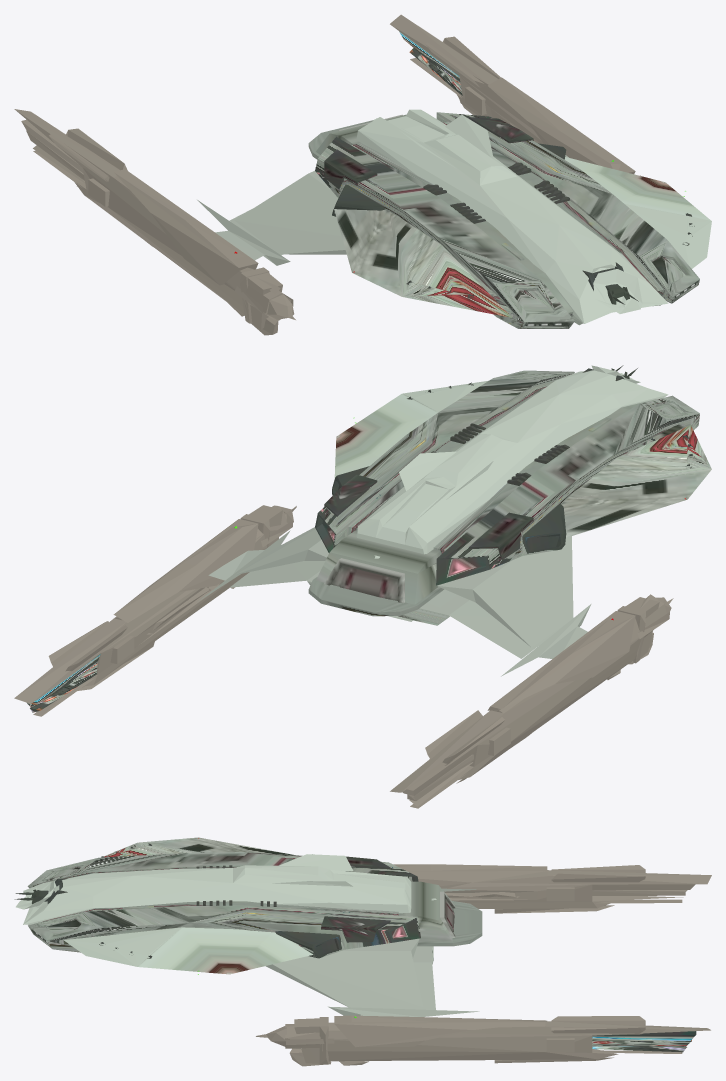
3 renders of one model, top to bottom at view 1: azimuth 30°, elevation 25°; view 2: azimuth 150°, elevation 25°; view 3: azimuth 270°, elevation 25°, orthographic. The views are drawn at different scales.
Parts seen in each view (by area): view 1: WalkerSaucer_0, WalkerNacelle_0, WalkerExtra.001_0, WalkerSaucer.001_0, WalkerPylon_0; view 2: WalkerSaucer_0, WalkerNacelle_0, WalkerExtra.001_0, WalkerPylon_0, WalkerSaucer.001_0; view 3: WalkerNacelle_0, WalkerSaucer_0, WalkerExtra.001_0, WalkerSaucer.001_0, WalkerPylon_0.
Part boxes in pixels (bbox=[...]): WalkerSaucer_0: bbox=[234, 112, 699, 328]; WalkerNacelle_0: bbox=[14, 14, 640, 335]; WalkerExtra.001_0: bbox=[356, 109, 668, 323]; WalkerSaucer.001_0: bbox=[334, 157, 711, 317]; WalkerPylon_0: bbox=[197, 155, 568, 265]; WalkerSaucer_0: bbox=[234, 365, 699, 620]; WalkerNacelle_0: bbox=[14, 505, 673, 808]; WalkerExtra.001_0: bbox=[356, 365, 668, 558]; WalkerPylon_0: bbox=[198, 527, 591, 676]; WalkerSaucer.001_0: bbox=[334, 380, 711, 537]; WalkerNacelle_0: bbox=[256, 864, 711, 1066]; WalkerSaucer_0: bbox=[14, 838, 482, 1017]; WalkerExtra.001_0: bbox=[16, 854, 436, 924]; WalkerSaucer.001_0: bbox=[64, 837, 313, 974]; WalkerPylon_0: bbox=[265, 888, 479, 1016].
Bounding box in the file's own units: 5.6 × 1.94 × 10.06.
Materials: 5 (5 with a texture image).
